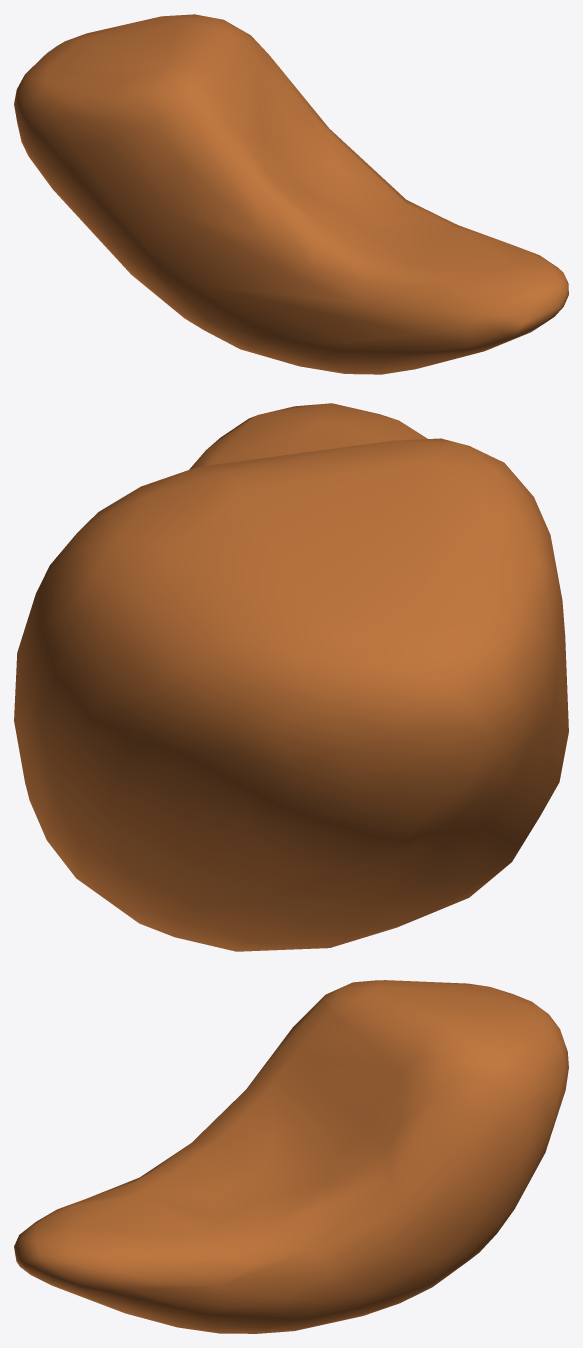
Rendered from Lateral_geniculate_body_left.glb.
3 renders of one model, top to bottom at view 1: azimuth 30°, elevation 25°; view 2: azimuth 150°, elevation 25°; view 3: azimuth 270°, elevation 25°, orthographic. The views are drawn at different scales.
Parts seen in each view (by area): view 1: Lateral_geniculate_body.l_grp1.073; view 2: Lateral_geniculate_body.l_grp1.073; view 3: Lateral_geniculate_body.l_grp1.073.
Part boxes in pixels (bbox=[...]): Lateral_geniculate_body.l_grp1.073: bbox=[14, 14, 568, 374]; Lateral_geniculate_body.l_grp1.073: bbox=[14, 403, 568, 951]; Lateral_geniculate_body.l_grp1.073: bbox=[14, 980, 568, 1333].
Bounding box in the file's own units: 0.00822 × 0.00623 × 0.0114.
